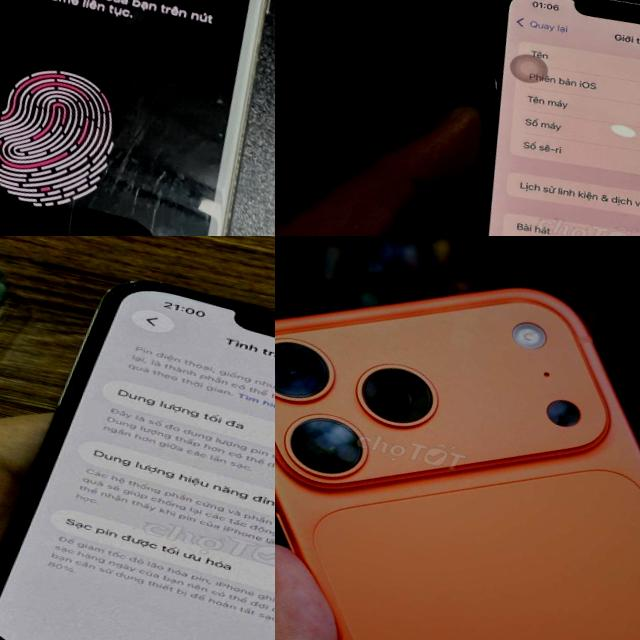gen_11: (382, 0, 640, 236)
gen_12_13: (0, 250, 275, 640)
gen_17: (275, 288, 640, 640)
gen_6: (0, 0, 275, 236)
scratch: (35, 76, 232, 236)
